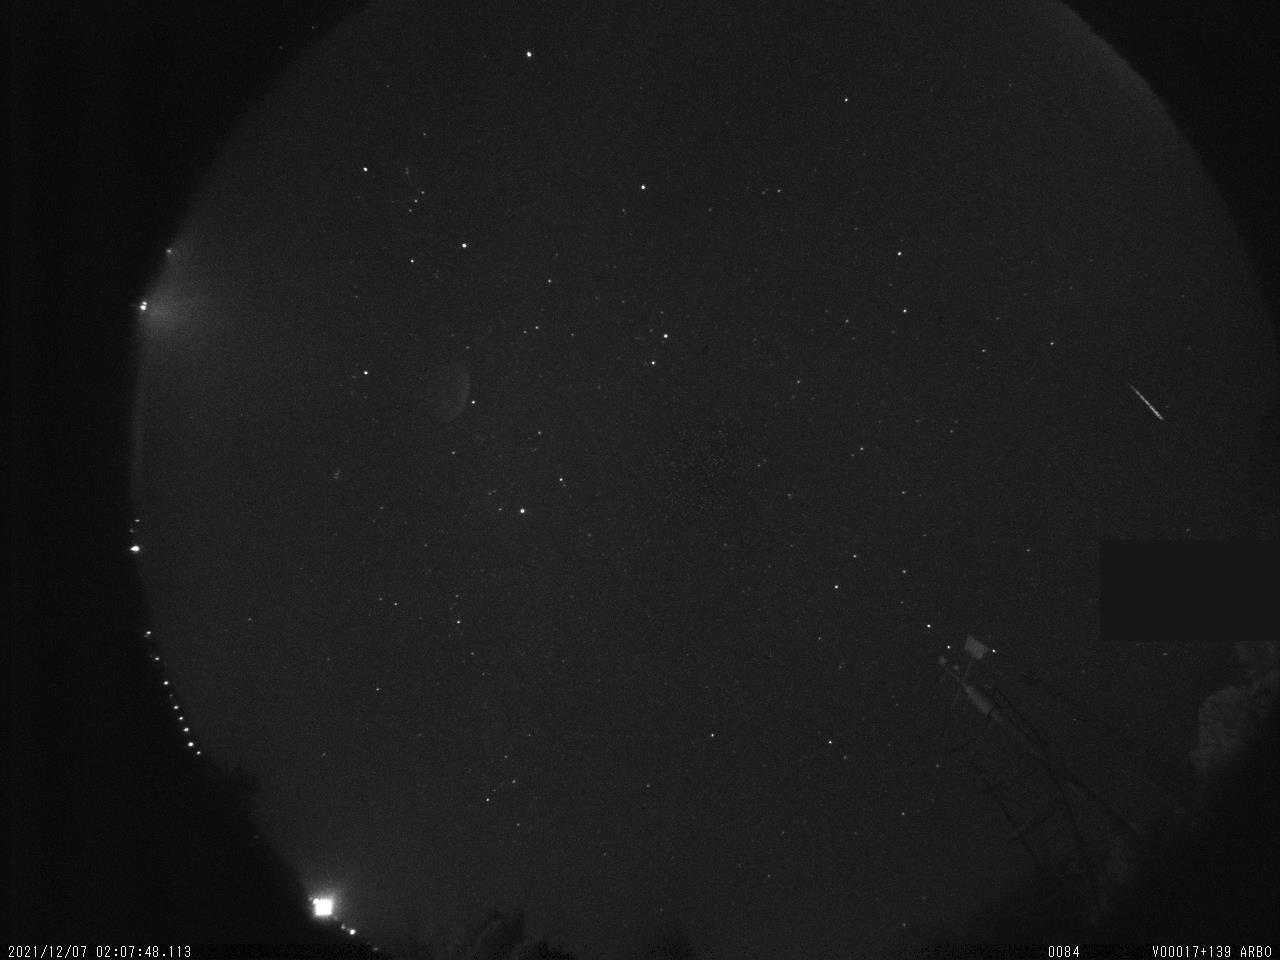meteor: (1090, 344, 1199, 455)
